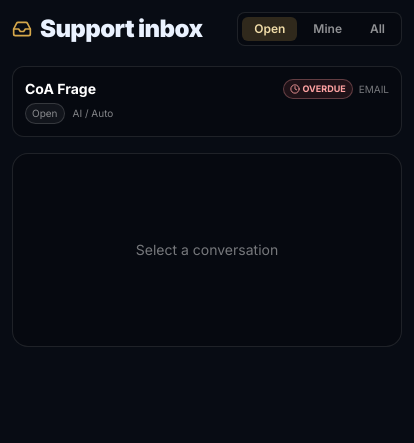
SupportInbox › reveals resolved conversations under the 'All' filter
This screenshot has width=414, height=443.
Step 1. Click the button "All" → click(378, 29), box [358,17,397,41]
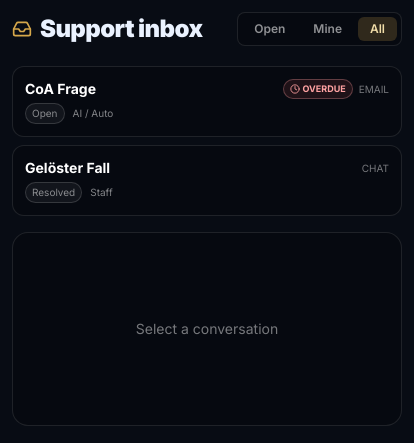
expect the text "Gelöster Fall" is shown: met, box [25,158,110,178]
